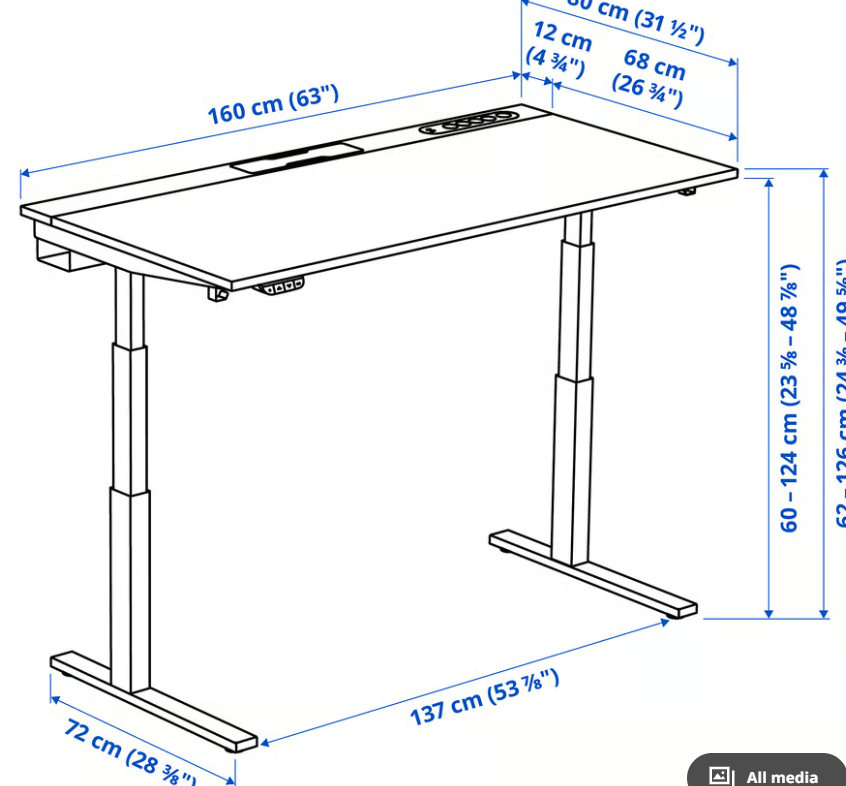table_legs: (50, 267, 257, 753), (490, 211, 697, 618)
table_support: (35, 220, 218, 287)
table_top: (20, 104, 738, 291)
